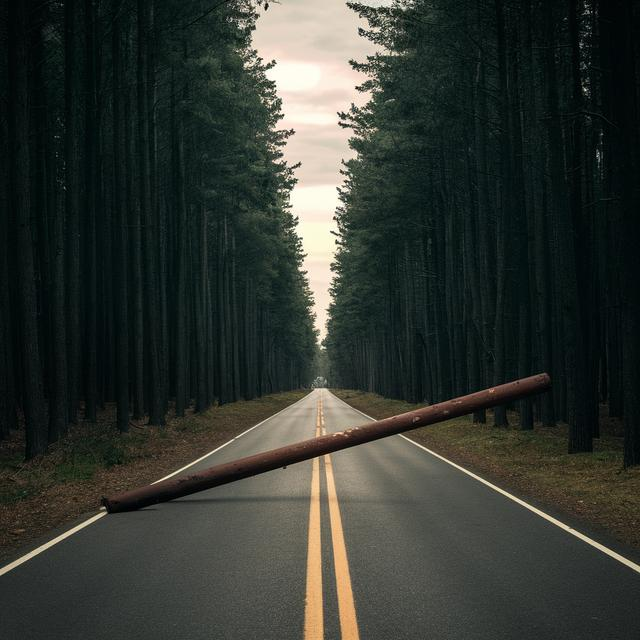Inclined Pole: (102, 372, 547, 519)
